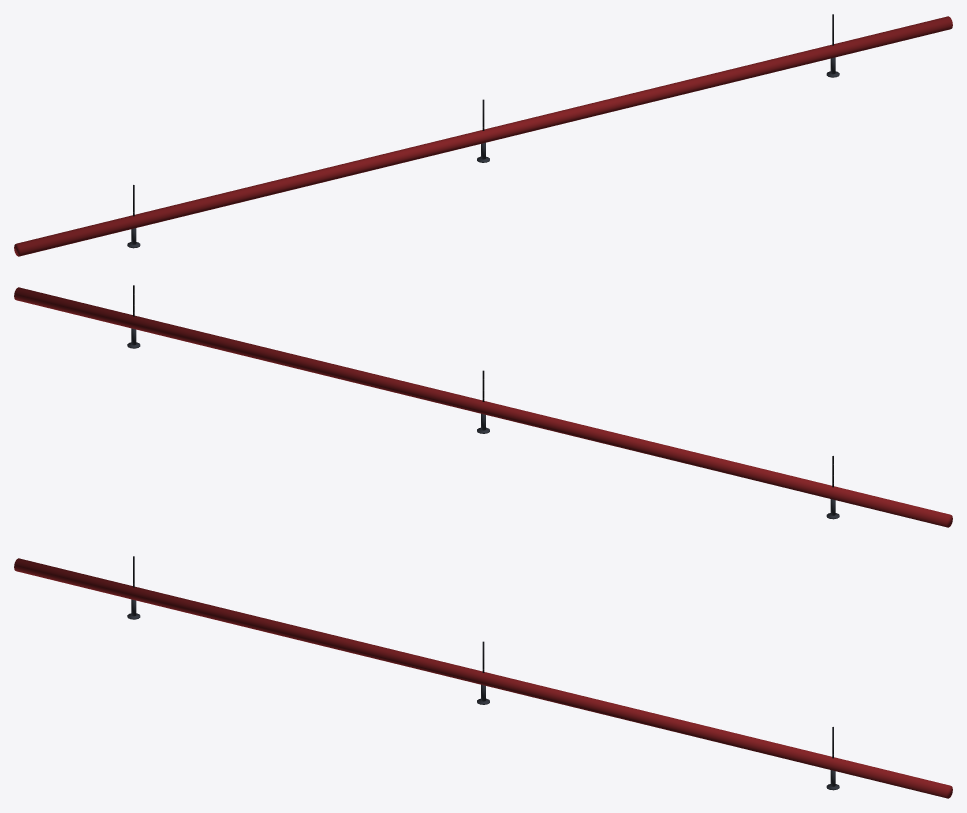
The model's file is Arch_Ceiling_Sprinkler_4m.gltf.
The picture shows the model from 3 angles, top to bottom: view 1: azimuth 30°, elevation 25°; view 2: azimuth 150°, elevation 25°; view 3: azimuth 330°, elevation 25°; orthographic projection.
Visible parts, largest first — view 1: Arch_Ceiling_Sprinkler_4m; view 2: Arch_Ceiling_Sprinkler_4m; view 3: Arch_Ceiling_Sprinkler_4m.
Part boxes in pixels (x1=…): Arch_Ceiling_Sprinkler_4m: x1=14, y1=14, x2=952, y2=256; Arch_Ceiling_Sprinkler_4m: x1=14, y1=285, x2=952, y2=527; Arch_Ceiling_Sprinkler_4m: x1=14, y1=556, x2=952, y2=798.
Bounding box in the file's own units: 4 × 0.247 × 0.05.
Materials: 3 (1 with a texture image).
